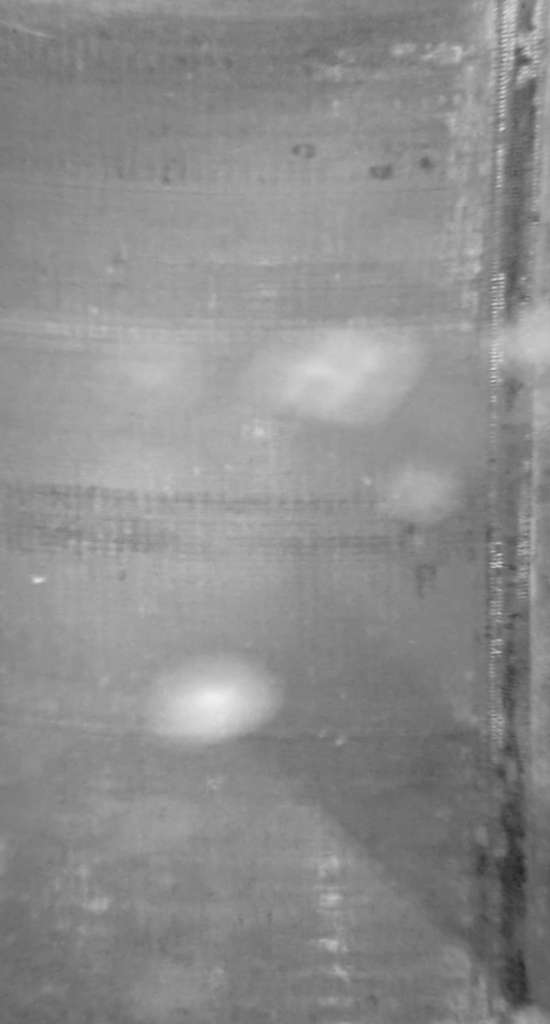splice: (474, 1, 544, 1024)
